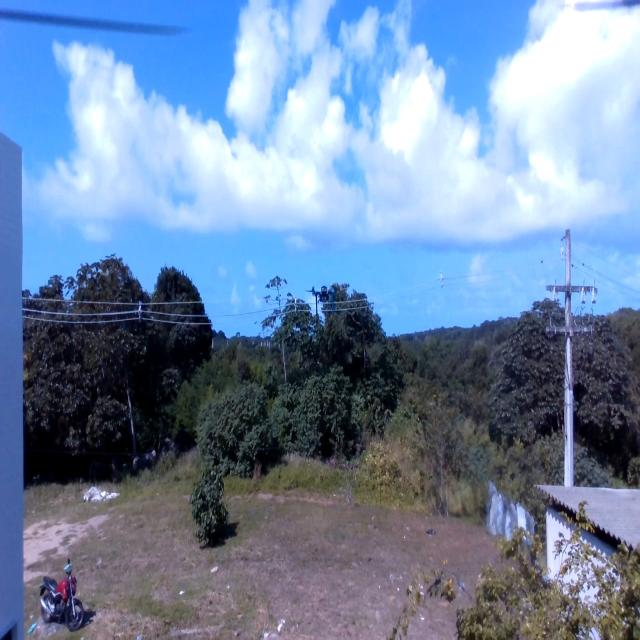-uav-: (298, 276, 349, 326)
